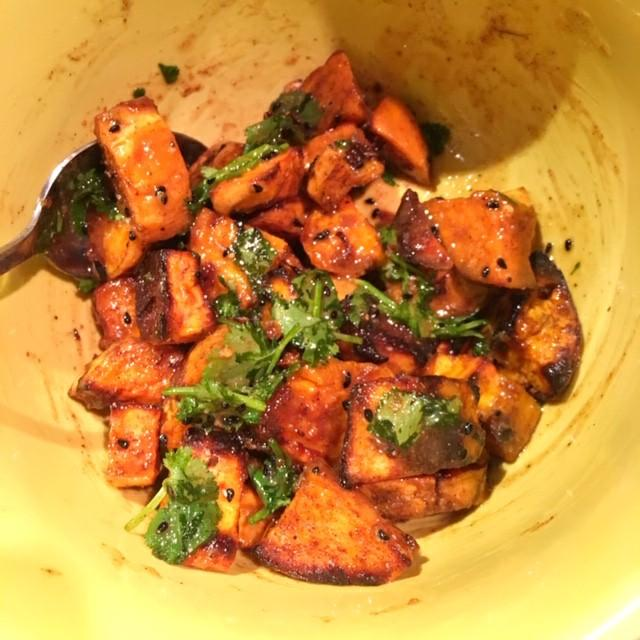AlooMasala: (69, 49, 583, 585)
